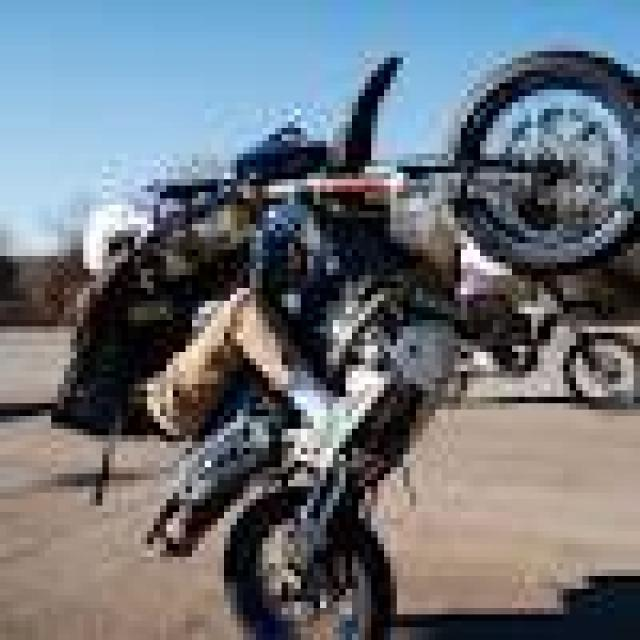Wheeling: (148, 50, 640, 577)
